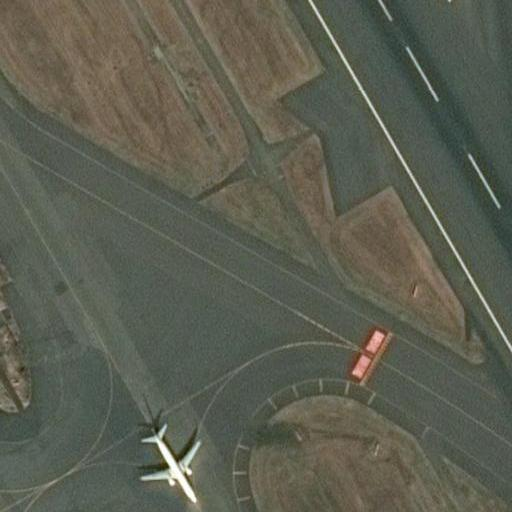Aircraft: (138, 421, 205, 503)
